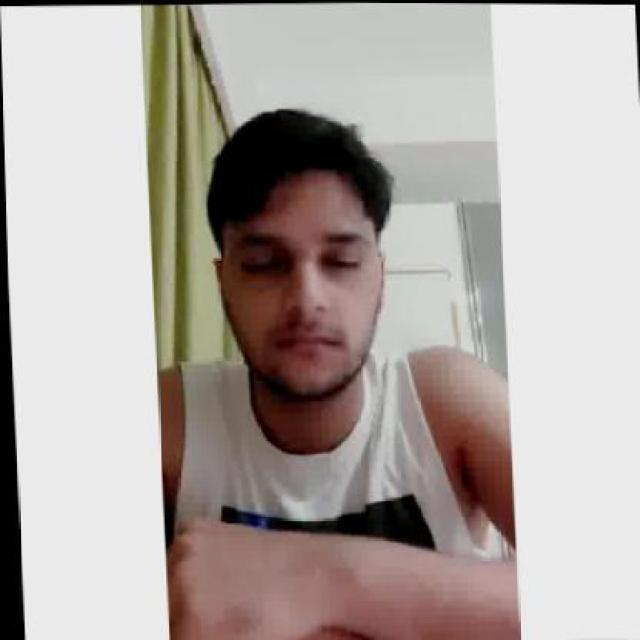inattentif: (202, 106, 395, 403)
